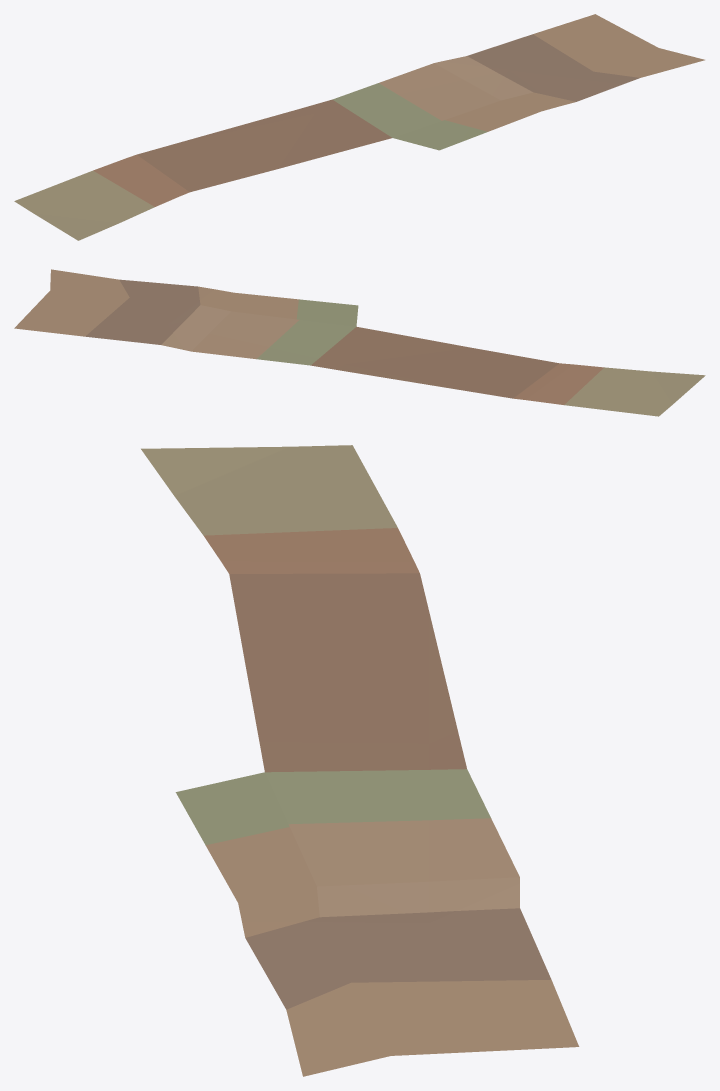
The model's file is farm_35_29_soil.glb.
3 renders of one model, top to bottom at view 1: azimuth 30°, elevation 25°; view 2: azimuth 150°, elevation 25°; view 3: azimuth 270°, elevation 25°, orthographic. The views are drawn at different scales.
Visible parts, largest first — view 1: geometry_0; view 2: geometry_0; view 3: geometry_0.
Boxes of the visible parts, x1,y1,x2,y2 form: geometry_0: (14,14,704,240); geometry_0: (14,269,705,416); geometry_0: (141,445,579,1076).
Bounding box in the file's own units: 281 × 6.46 × 86.05.
